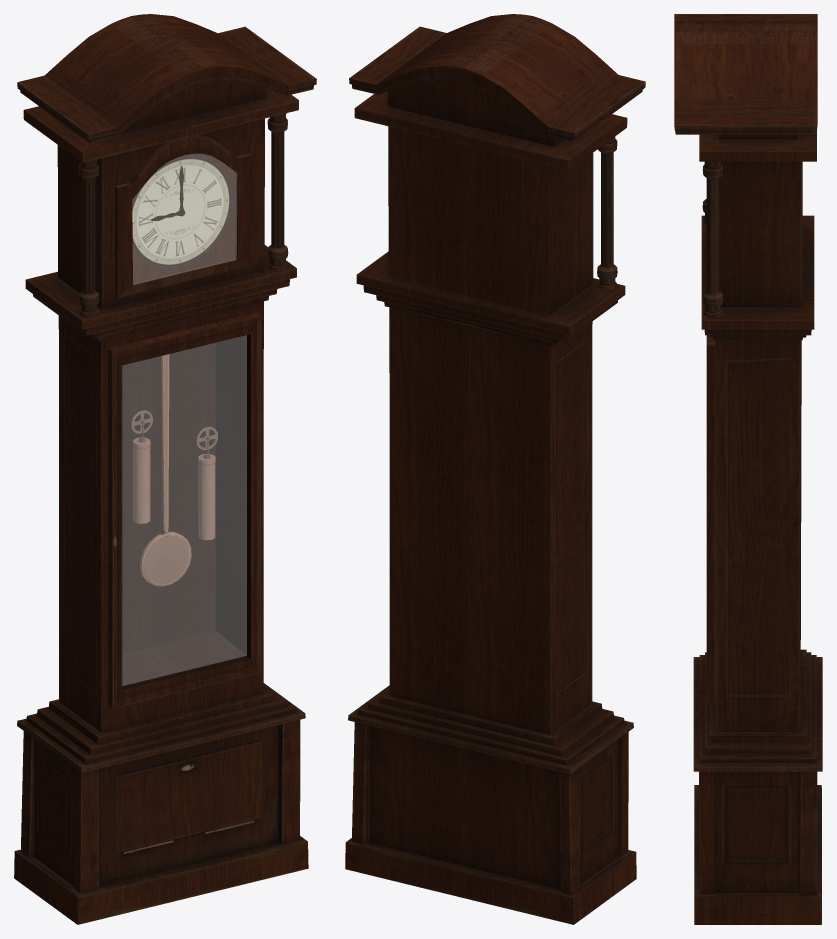
The model's file is clock.glb.
The picture shows the model from 3 angles, left to right: view 1: azimuth 30°, elevation 25°; view 2: azimuth 150°, elevation 25°; view 3: azimuth 270°, elevation 25°; orthographic projection.
Parts seen in each view (by area): view 1: Object_3, Object_2; view 2: Object_3; view 3: Object_3.
Boxes of the visible parts, box(x1,y1,x2,y2) form: Object_3: box(14, 14, 316, 924); Object_2: box(122, 154, 246, 685); Object_3: box(345, 14, 645, 924); Object_3: box(674, 14, 822, 924).
Size of the model in its own units: 13.18 by 45.59 by 7.33.
2 materials, 1 textured.
